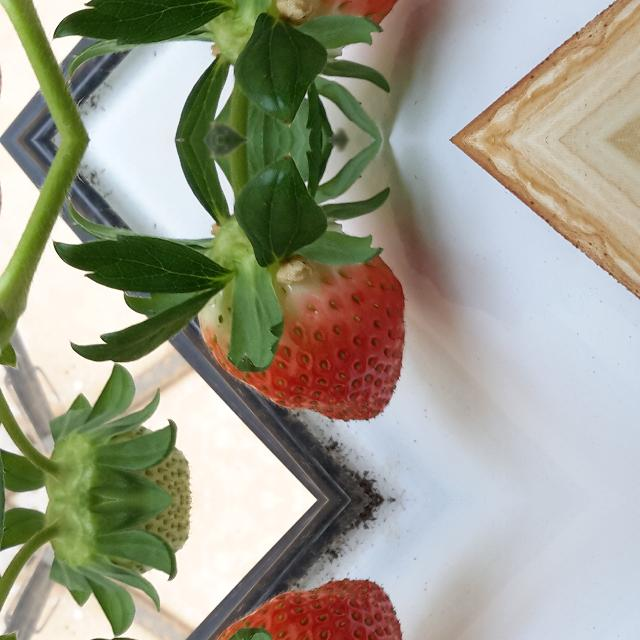Health_100: (198, 254, 408, 422), (198, 578, 407, 640)
Health_25: (52, 410, 192, 500), (52, 500, 192, 590)
